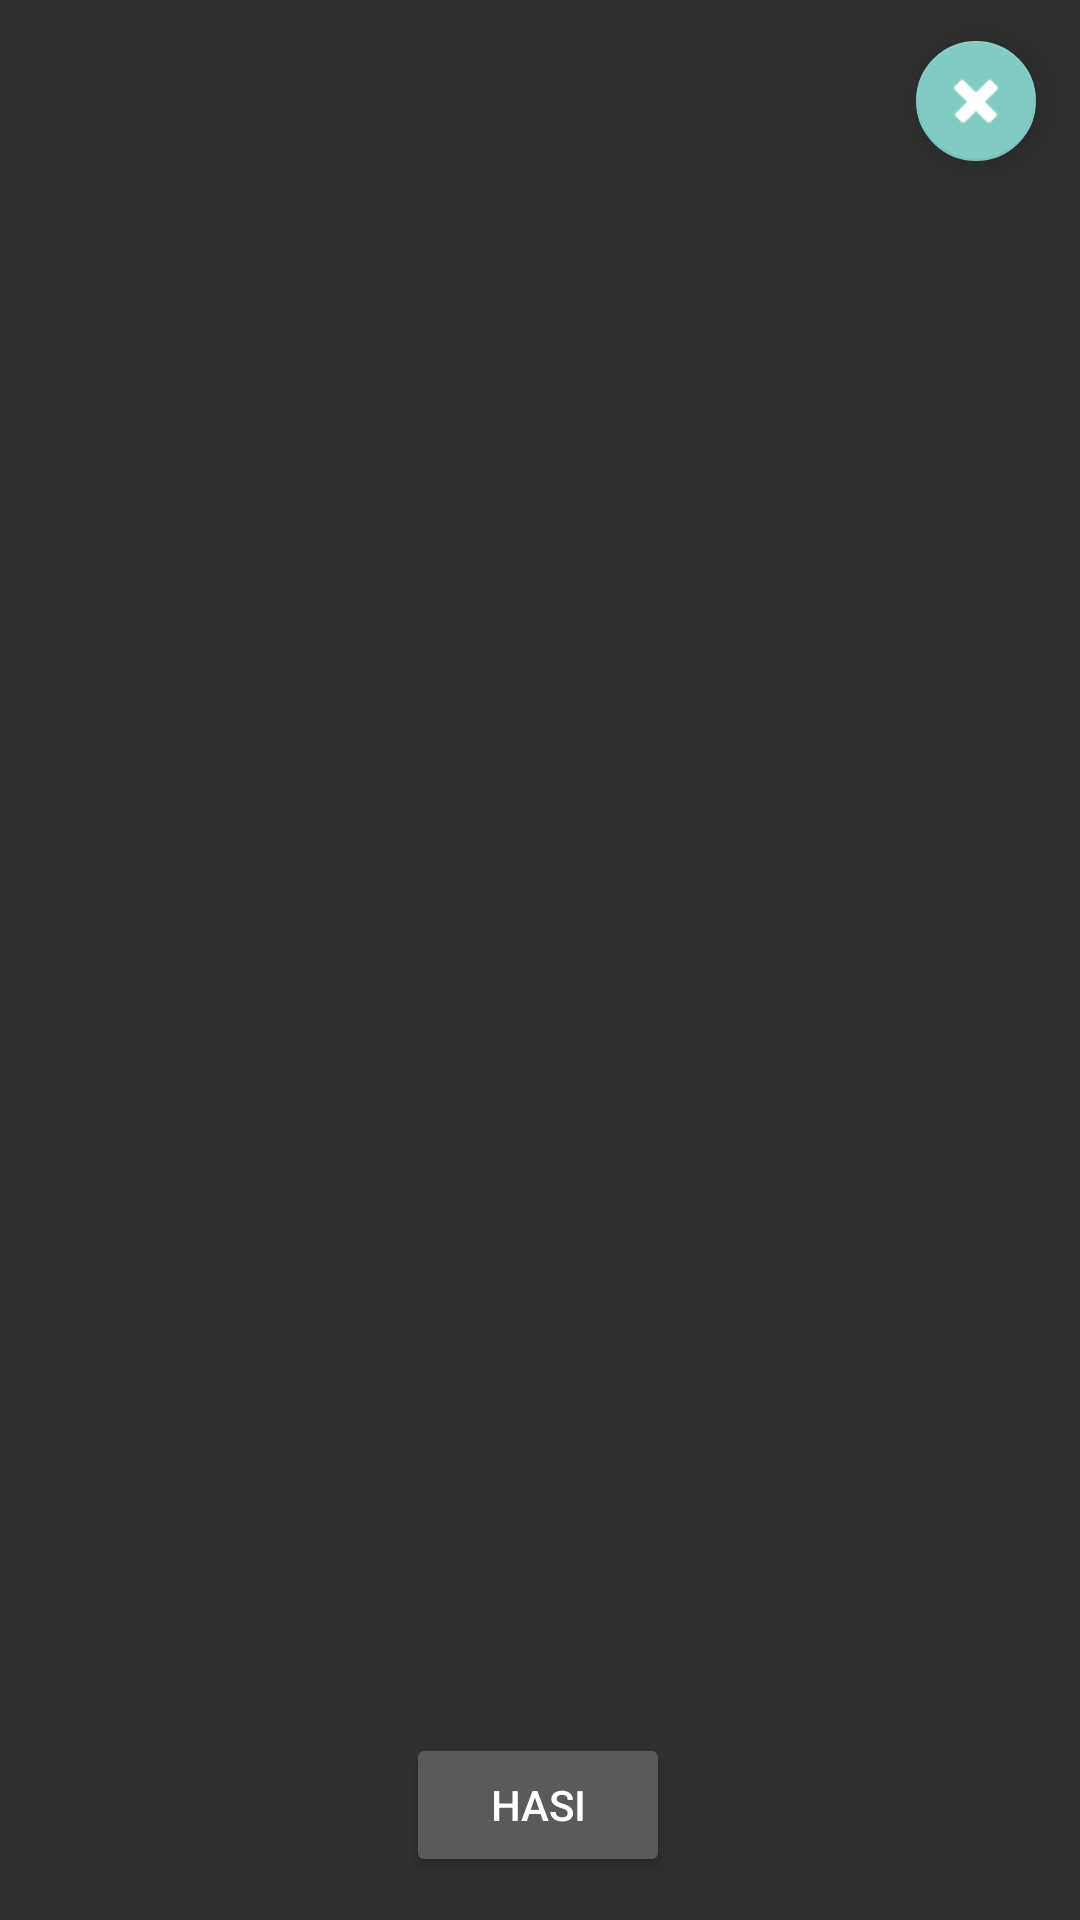

Icons on this 1080×1920 Android screen, each with the point to tap as (x,y):
delete: (976,101)
